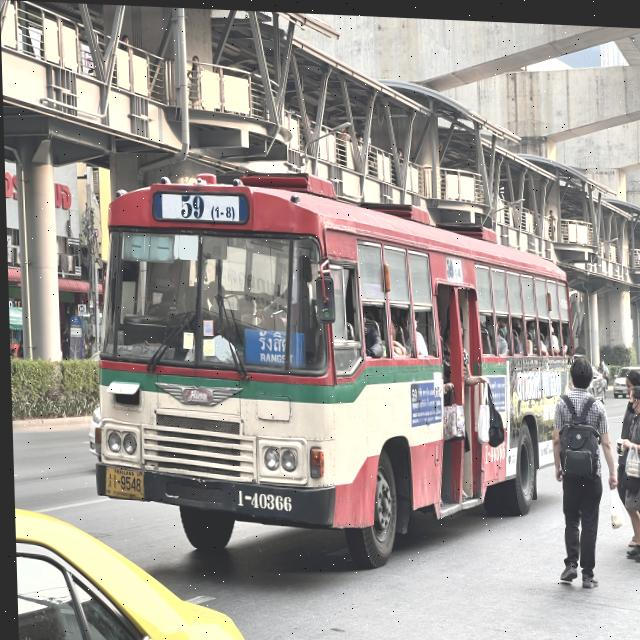BMTA-bus: (78, 154, 582, 576)
Bus-Line-Number: (168, 188, 242, 225)
Destination-Sign-Normal: (244, 325, 304, 368)
